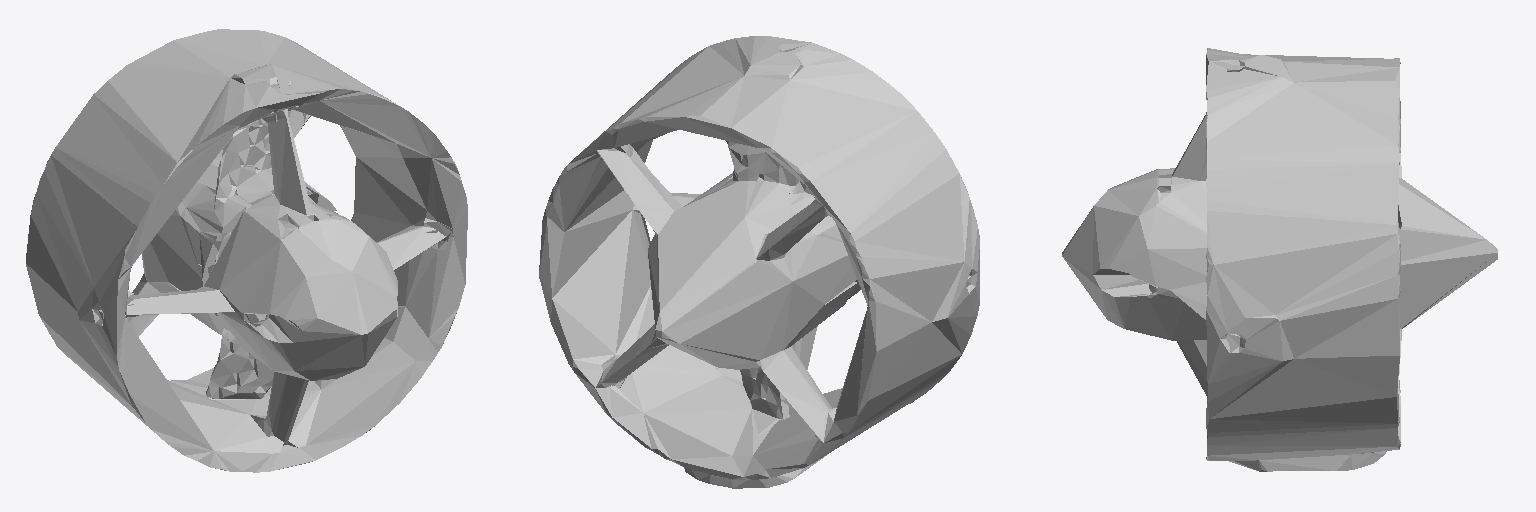
Rendered from tb-thruster_visual_tb-thruster.obj.
The picture shows the model from 3 angles: view 1: azimuth 30°, elevation 25°; view 2: azimuth 150°, elevation 25°; view 3: azimuth 270°, elevation 25°; orthographic projection.
Parts seen in each view (by area): view 1: tb-thruster_visual_tb-thruster; view 2: tb-thruster_visual_tb-thruster; view 3: tb-thruster_visual_tb-thruster.
Part boxes in pixels (left/top/right/bottom): tb-thruster_visual_tb-thruster: left=26, top=29, right=467, bottom=472; tb-thruster_visual_tb-thruster: left=539, top=36, right=979, bottom=488; tb-thruster_visual_tb-thruster: left=1062, top=48, right=1497, bottom=471.
Bounding box in the file's own units: 0.0966 × 0.0975 × 0.1008.